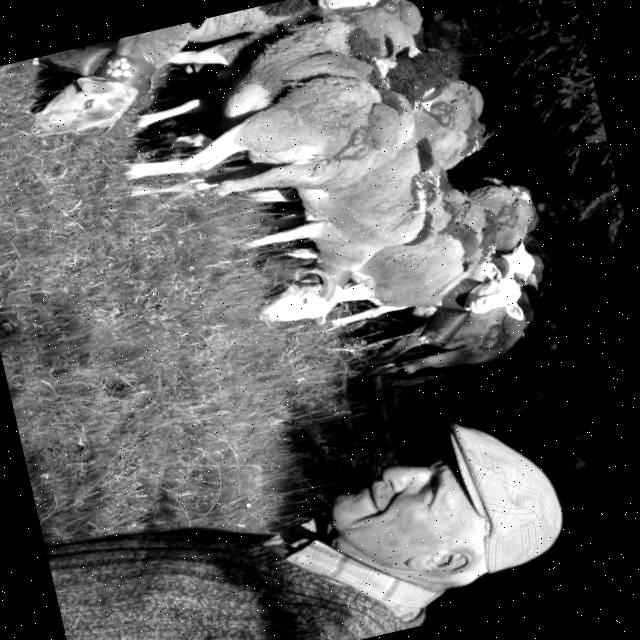sheep: (31, 23, 194, 138)
